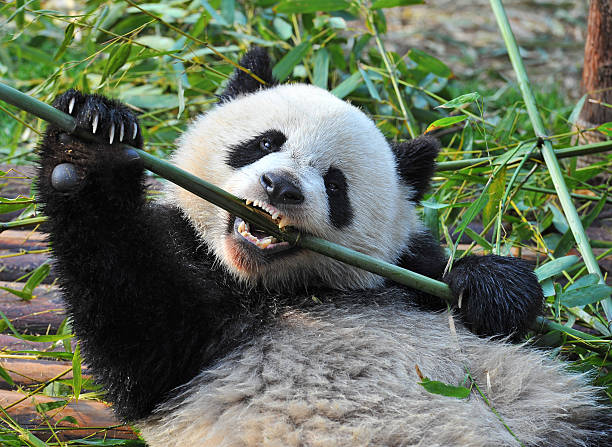panda: (150, 35, 460, 316)
